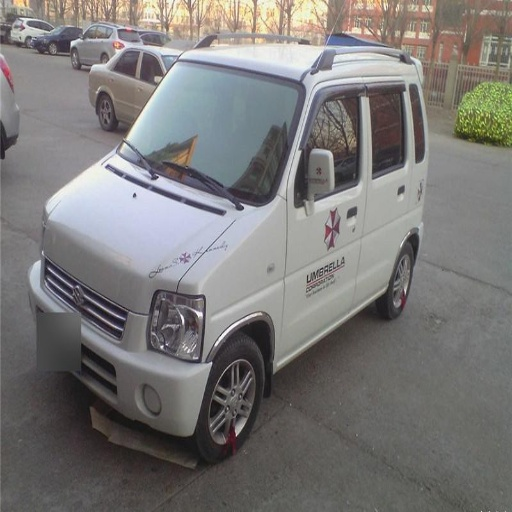front_bumper: (81, 323, 210, 436)
front_glass: (124, 65, 303, 208)
front_left_door: (279, 82, 364, 355)
